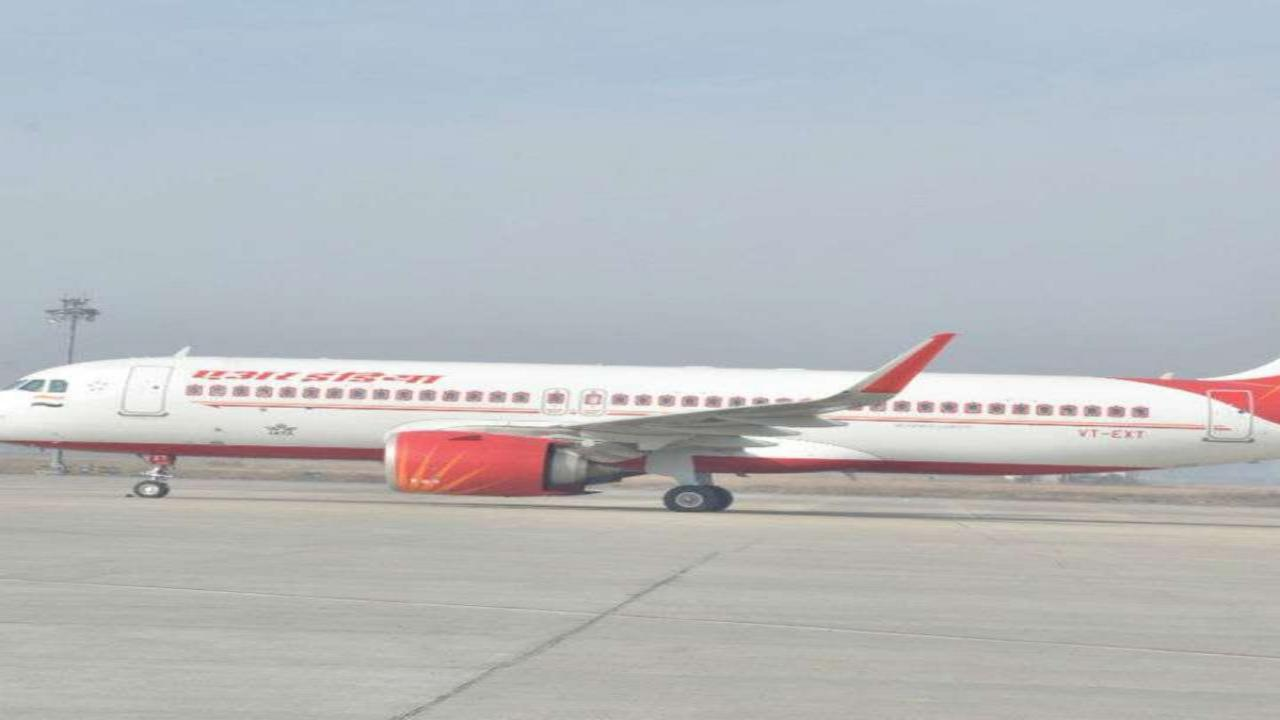Airplane: (3, 318, 1280, 521)
